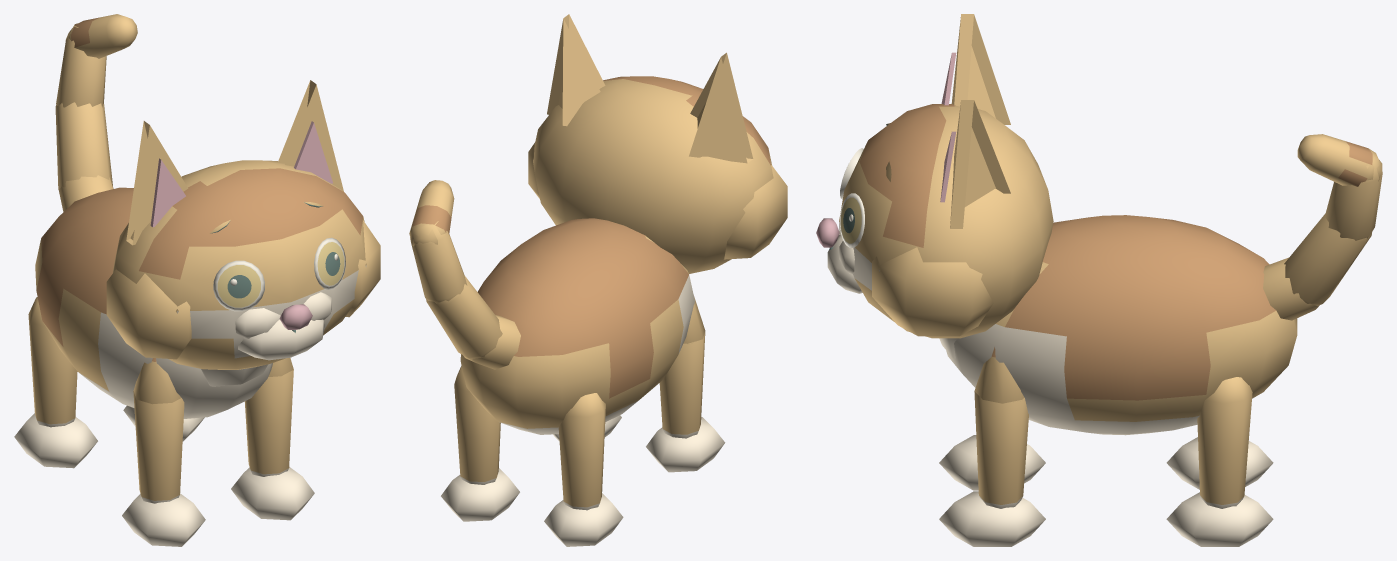
The model's file is cat.fbx.
3 views of the same model, side by side, from view 1: azimuth 30°, elevation 25°; view 2: azimuth 150°, elevation 25°; view 3: azimuth 270°, elevation 25° (orthographic). The views are drawn at different scales.
Parts seen in each view (by area): view 1: Head, Body, LegFrontLeftLower, LegFrontRightLower, LegBackLeftLower, Tail, EarL, EarR, Tail_2, Tail_3, Jaw, PawFrontLeft; view 2: Body, Head, LegBackLeftLower, LegBackRightLower, LegFrontLeftLower, Tail, EarL, EarR, Tail_2, Tail_3, PawFrontLeft; view 3: Body, Head, LegBackRightLower, LegFrontRightLower, Tail, EarR, EarL, Tail_3, Tail_2, LegFrontLeftLower, LegBackLeftLower, PawFrontRight (+1 smaller).
Boxes of the visible parts, x1,y1,x2,y2 form: Head: (106,160,380,369); Body: (35,187,272,418); LegFrontLeftLower: (122,391,205,546); LegFrontRightLower: (231,369,314,520); LegBackLeftLower: (14,297,97,468); Tail: (55,102,113,211); EarL: (126,121,188,245); EarR: (278,80,343,191); Tail_2: (56,23,106,107); Tail_3: (65,14,137,58); Jaw: (238,319,324,360); PawFrontLeft: (133,358,181,404); Body: (460,218,694,434); Head: (528,76,787,273); LegBackLeftLower: (544,393,623,546); LegBackRightLower: (441,365,519,521); LegFrontLeftLower: (646,332,725,472); Tail: (426,275,520,369); EarL: (689,52,753,163); EarR: (547,14,605,126); Tail_2: (410,221,467,303); Tail_3: (409,180,454,246); PawFrontLeft: (683,296,705,343); Body: (939,215,1297,435); Head: (816,104,1053,338); LegBackRightLower: (1166,377,1273,546); LegFrontRightLower: (939,391,1045,546); Tail: (1263,213,1371,320); EarR: (940,100,1010,228); EarL: (941,14,1010,124); Tail_3: (1297,134,1382,186); Tail_2: (1325,149,1382,240); LegFrontLeftLower: (939,435,1045,490); LegBackLeftLower: (1166,437,1273,489); PawFrontRight: (974,347,1024,403).
Bounding box in the file's own units: 0.8006 × 1.37 × 1.53.
